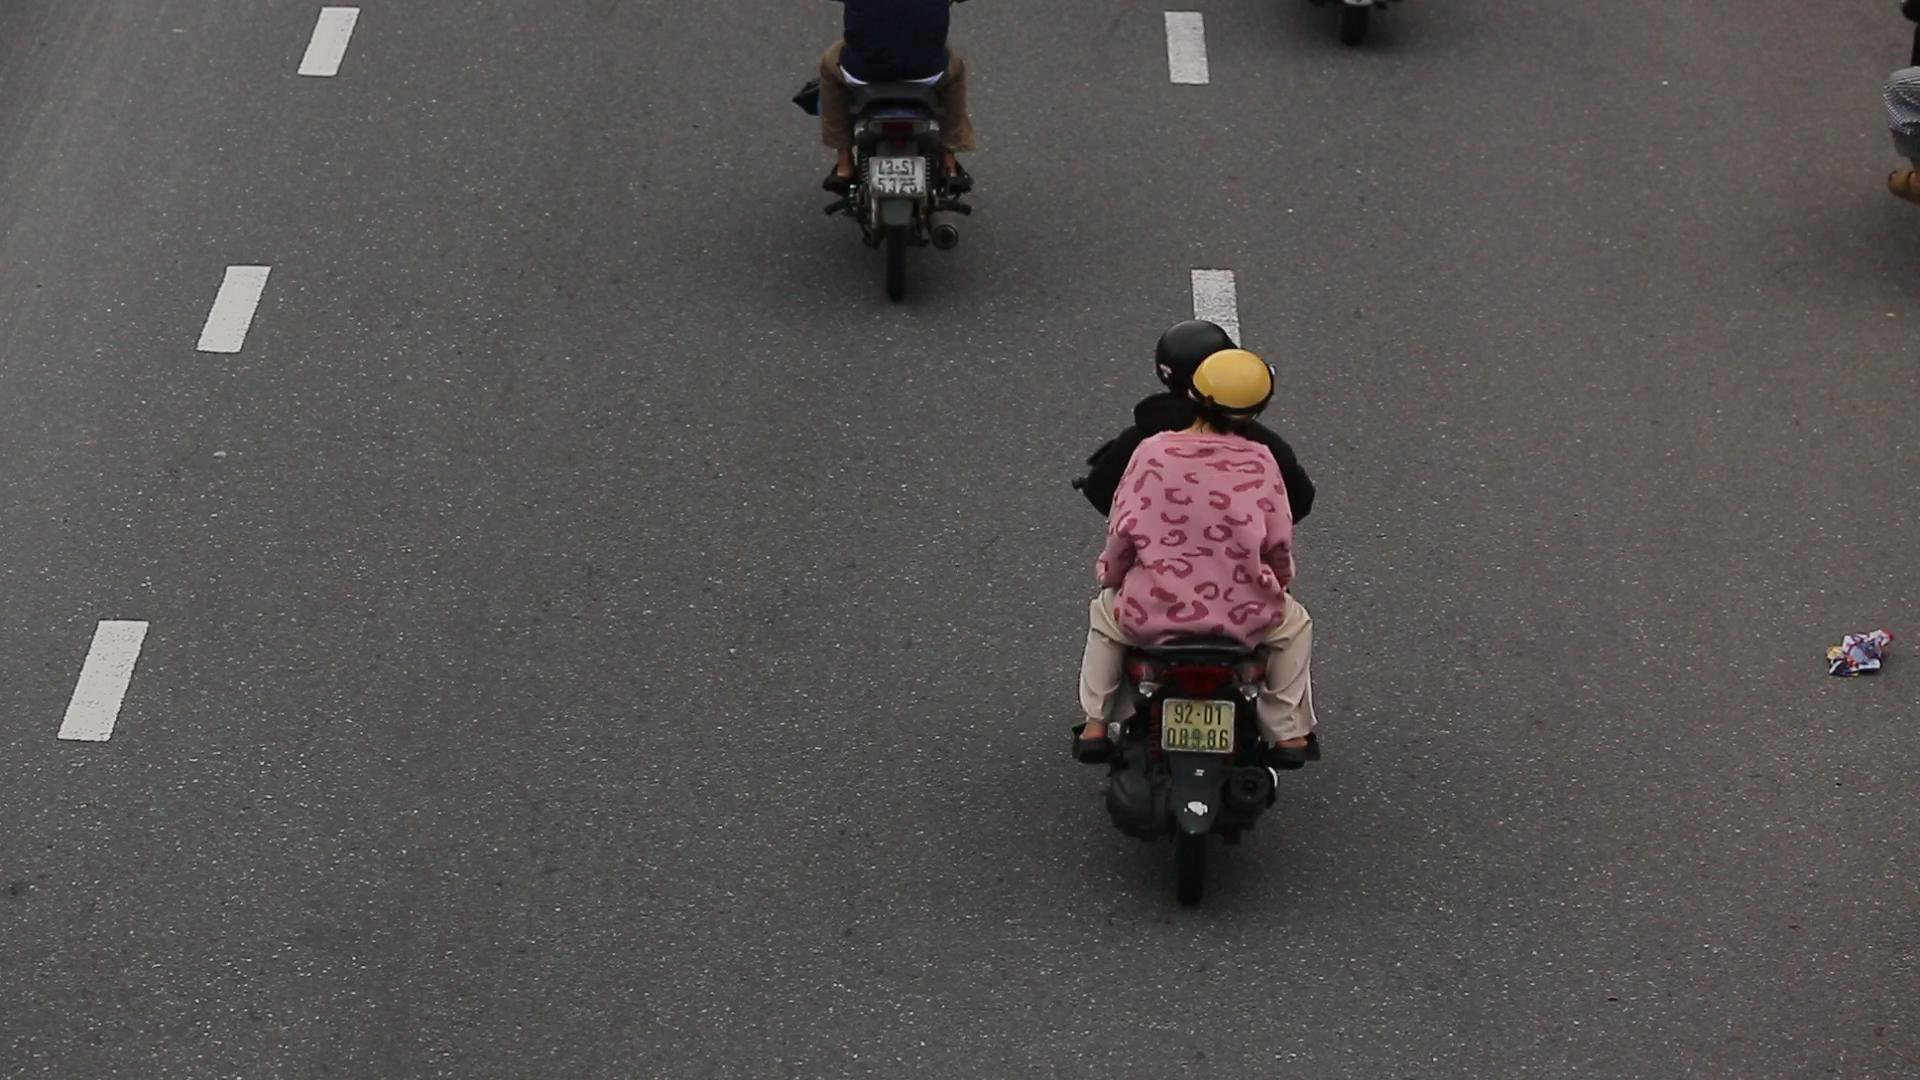motobike: (1044, 303, 1340, 922)
